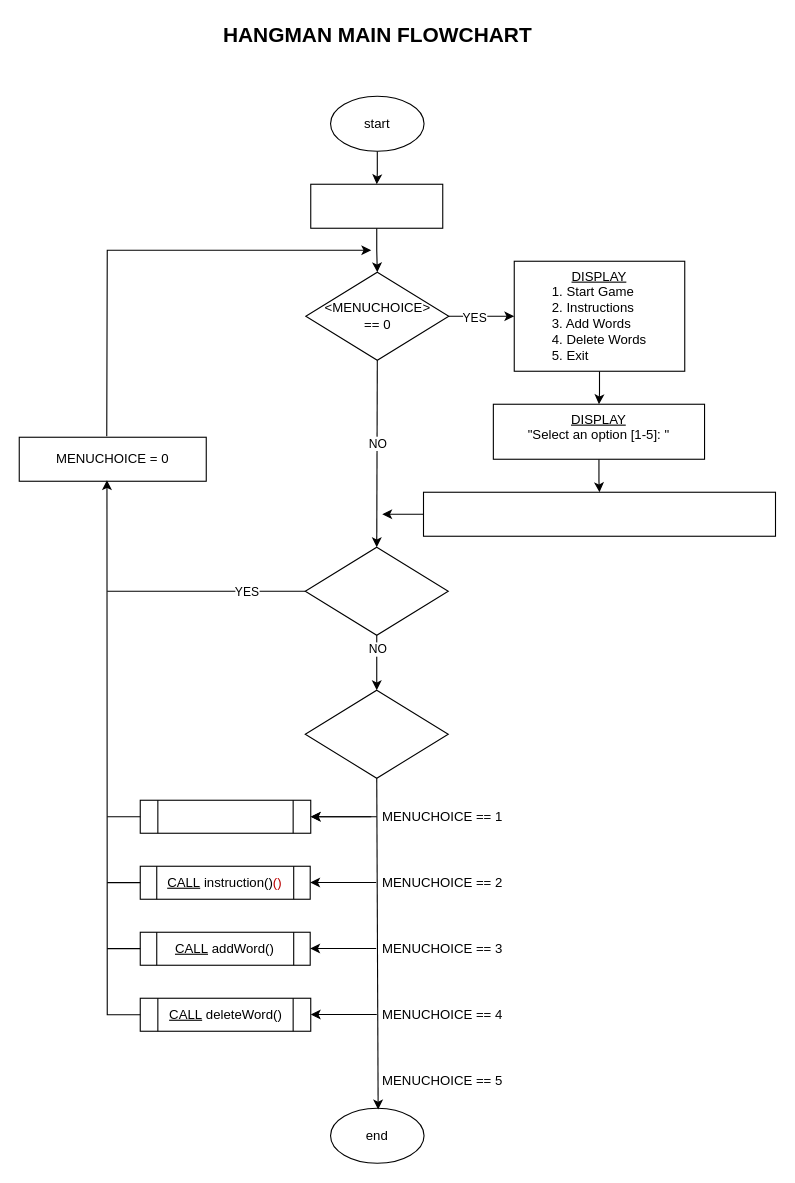
Image size: 795x1183. Some labels were removed from this diagram. The shapes that lost their labels are listed below. From the top down, each one's centre as x and y in pixels, then its label:
At (376,205): "DECLARE MENUCHOICE=0".
At (599,513): "Obtain user input and ASSIGN to <MENUCHOICE>".
At (376,590): "<MENUCHOICE> != [1-5]".
At (376,733): "<MENUCHOICE> ?".
At (225,816): "CALL hangman()".
